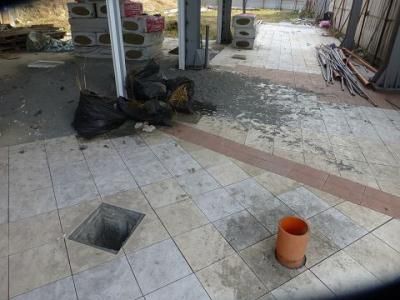box: (119, 11, 165, 31), (123, 40, 163, 62), (121, 28, 164, 46), (66, 1, 98, 21), (69, 29, 100, 47), (231, 11, 260, 29), (230, 25, 260, 39), (229, 37, 257, 52)
bucket: (273, 214, 311, 271)
plastic_bag: (127, 65, 193, 124), (74, 90, 122, 137), (26, 28, 72, 54)
